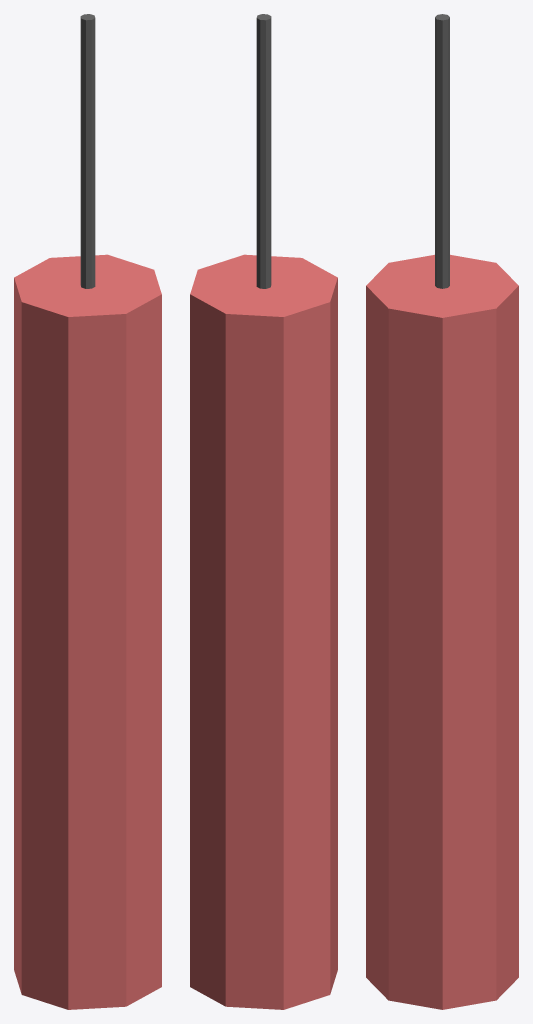
Rendered from item_dynamite.glb.
3 renders of one model, left to right at view 1: azimuth 30°, elevation 25°; view 2: azimuth 150°, elevation 25°; view 3: azimuth 270°, elevation 25°, orthographic.
Visible parts, largest first — view 1: Dynamite, Wick; view 2: Dynamite, Wick; view 3: Dynamite, Wick.
Boxes of the visible parts, <box> form: Dynamite: <box>14,254,161,1009</box>; Wick: <box>80,14,95,288</box>; Dynamite: <box>190,254,337,1009</box>; Wick: <box>256,14,271,288</box>; Dynamite: <box>366,254,518,1009</box>; Wick: <box>435,14,449,288</box>.
Size of the model in its own units: 0.05 by 0.347 by 0.05.
